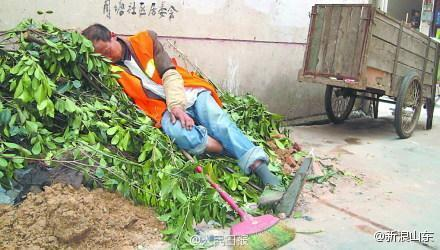Fall-Detected: (67, 18, 288, 197)
